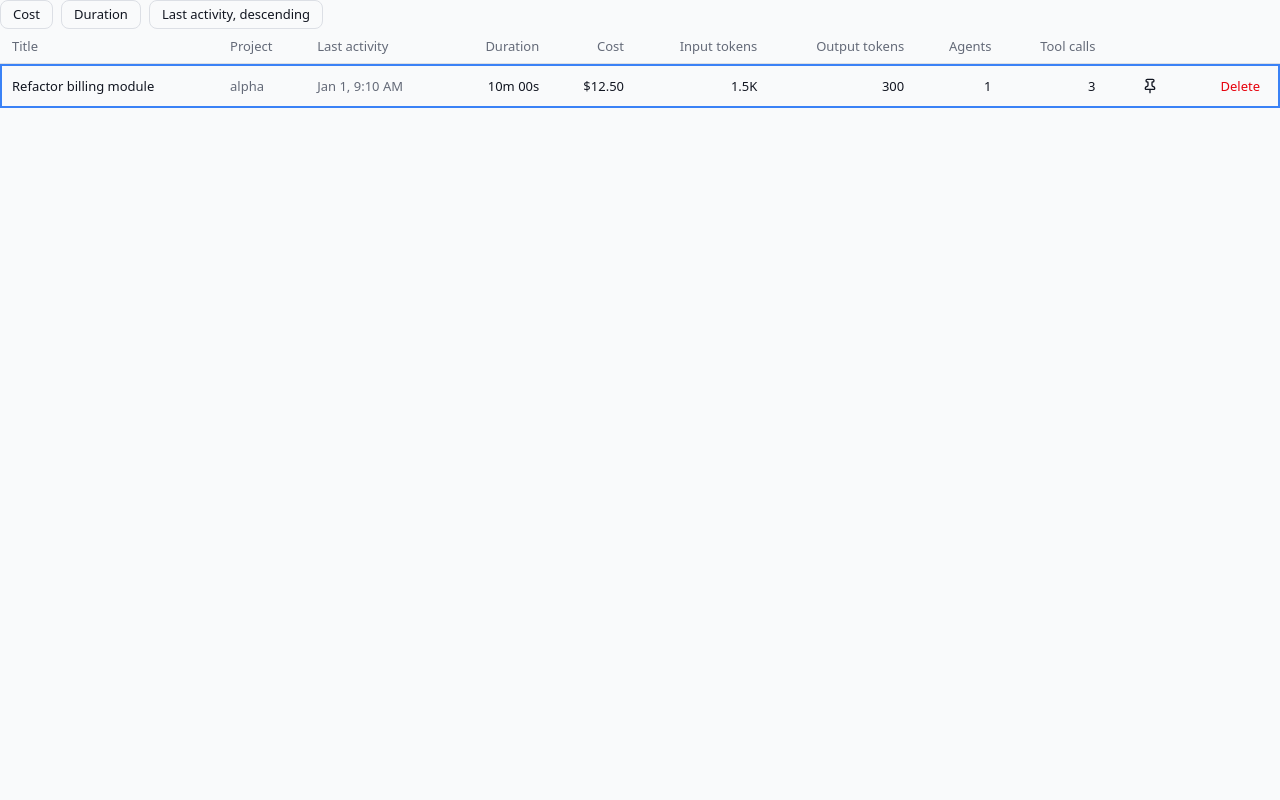
session deletion › keeps the row and reports whether a failed delete is worth retrying (E3-S5-AC5)
Click the button "Delete". click: [1240, 86]
box: [1212,73,1268,99]
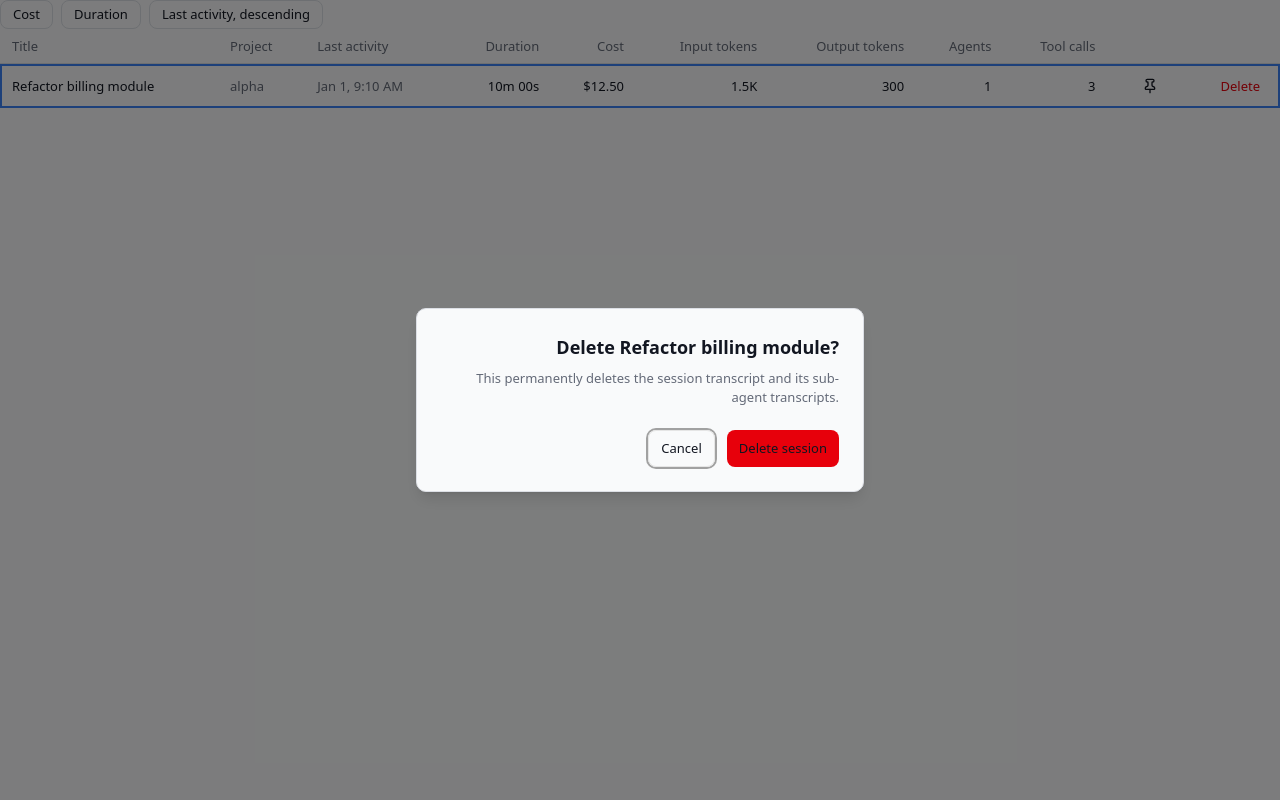
Click the button "Delete session". click: [783, 449]
box: [727,430,839,467]
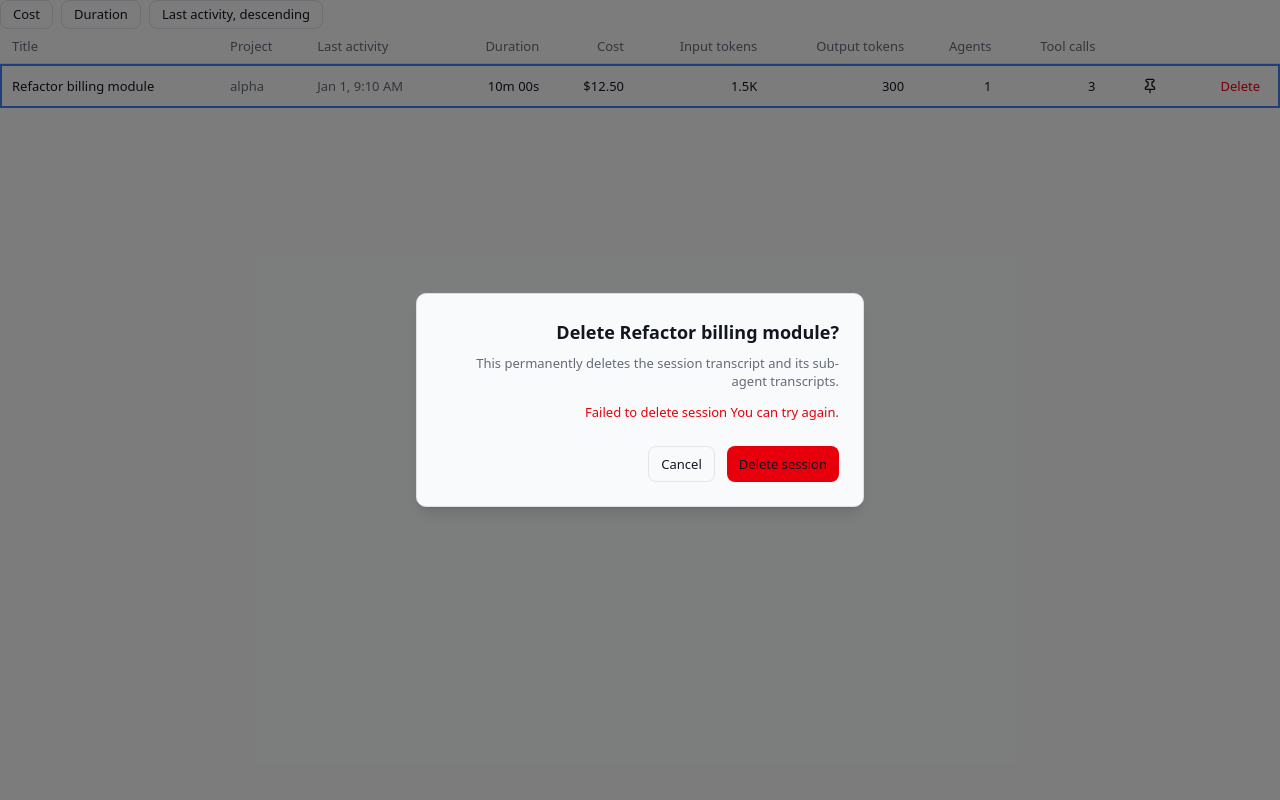
Now the button "Delete session" is enabled, box [727,446,839,482]
Now the message shows "Failed to delete session", box [585,403,727,421]
Now the message shows "You can try again.", box [730,403,839,421]
